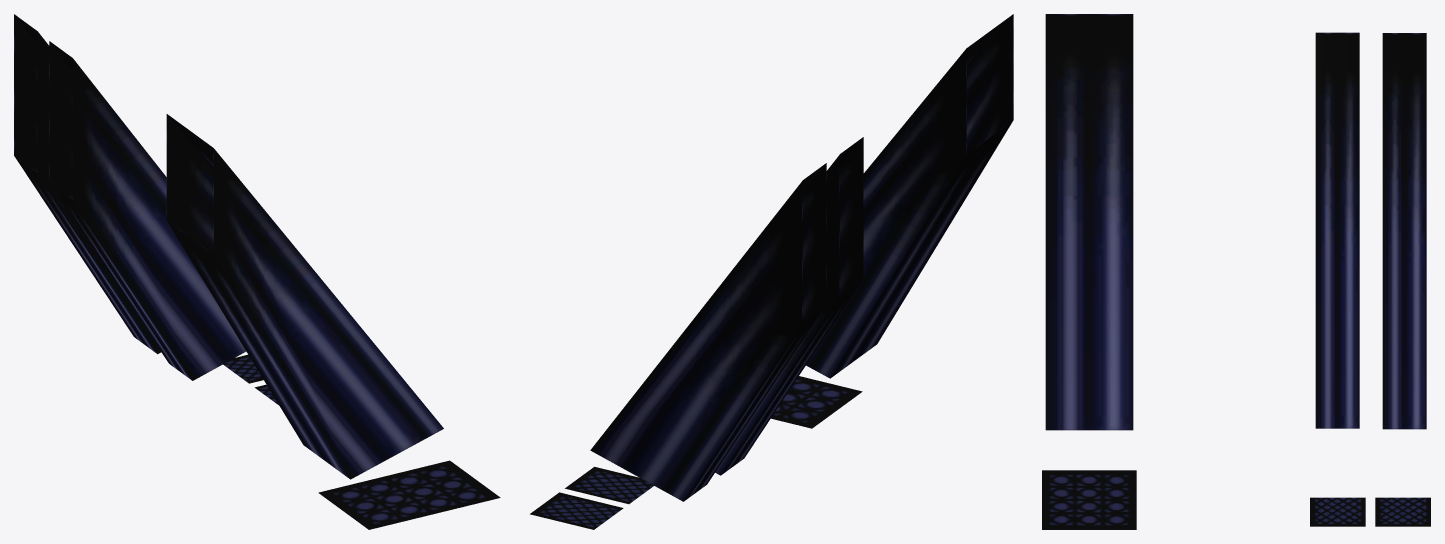
File: LAKETOWN_GRANDMA_PS_GM_LIGHTSHAFTS95958__GX.obj
3 renders of one model, left to right at view 1: azimuth 30°, elevation 25°; view 2: azimuth 150°, elevation 25°; view 3: azimuth 270°, elevation 25°, orthographic. The views are drawn at different scales.
Parts seen in each view (by area): view 1: shafts95958__GX; view 2: shafts95958__GX; view 3: shafts95958__GX.
Part boxes in pixels (x1=…): shafts95958__GX: x1=14, y1=14, x2=500, y2=529; shafts95958__GX: x1=530, y1=14, x2=1013, y2=529; shafts95958__GX: x1=1042, y1=14, x2=1430, y2=529.
Bounding box in the file's own units: 409 × 573 × 522.
